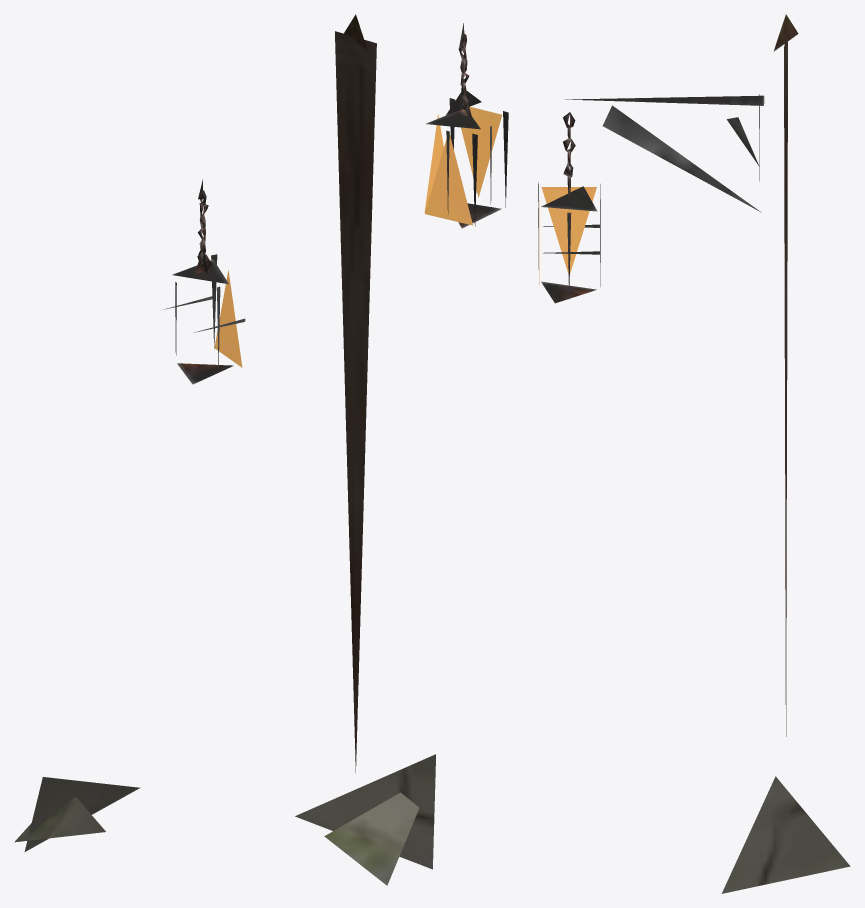
Rendered from lamp_post_lod2.glb.
3 renders of one model, left to right at view 1: azimuth 30°, elevation 25°; view 2: azimuth 150°, elevation 25°; view 3: azimuth 270°, elevation 25°, orthographic.
Visible parts, largest first — view 1: lamp_post; view 2: lamp_post; view 3: lamp_post.
Boxes of the visible parts, x1,y1,x2,y2 form: lamp_post: [14, 179, 245, 851]; lamp_post: [295, 14, 508, 885]; lamp_post: [538, 14, 850, 893].
Size of the model in its own units: 0.4752 by 3.07 by 1.01.
2 materials, 2 textured.
